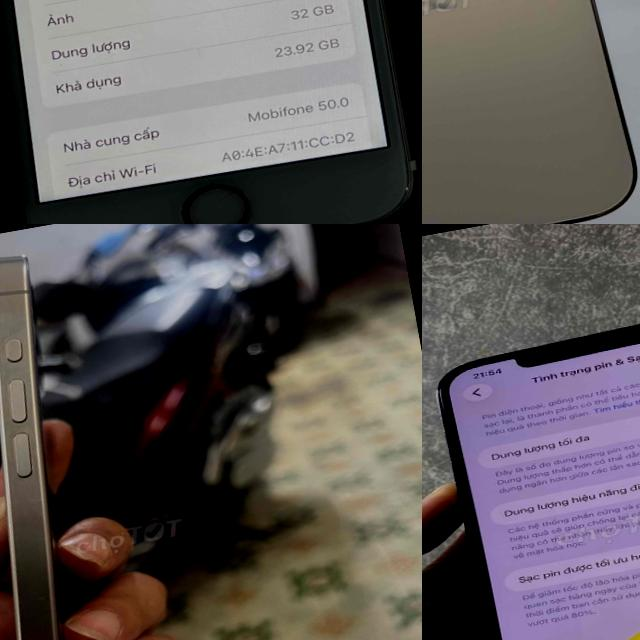scratch: (166, 173, 258, 224)
